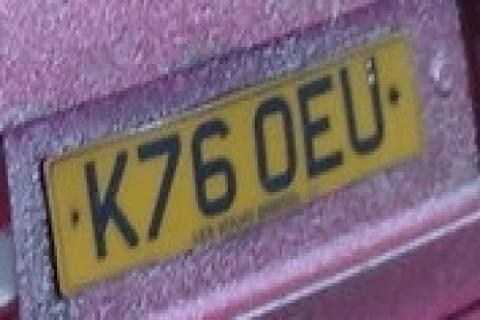LicensePlate: (40, 33, 474, 310)
